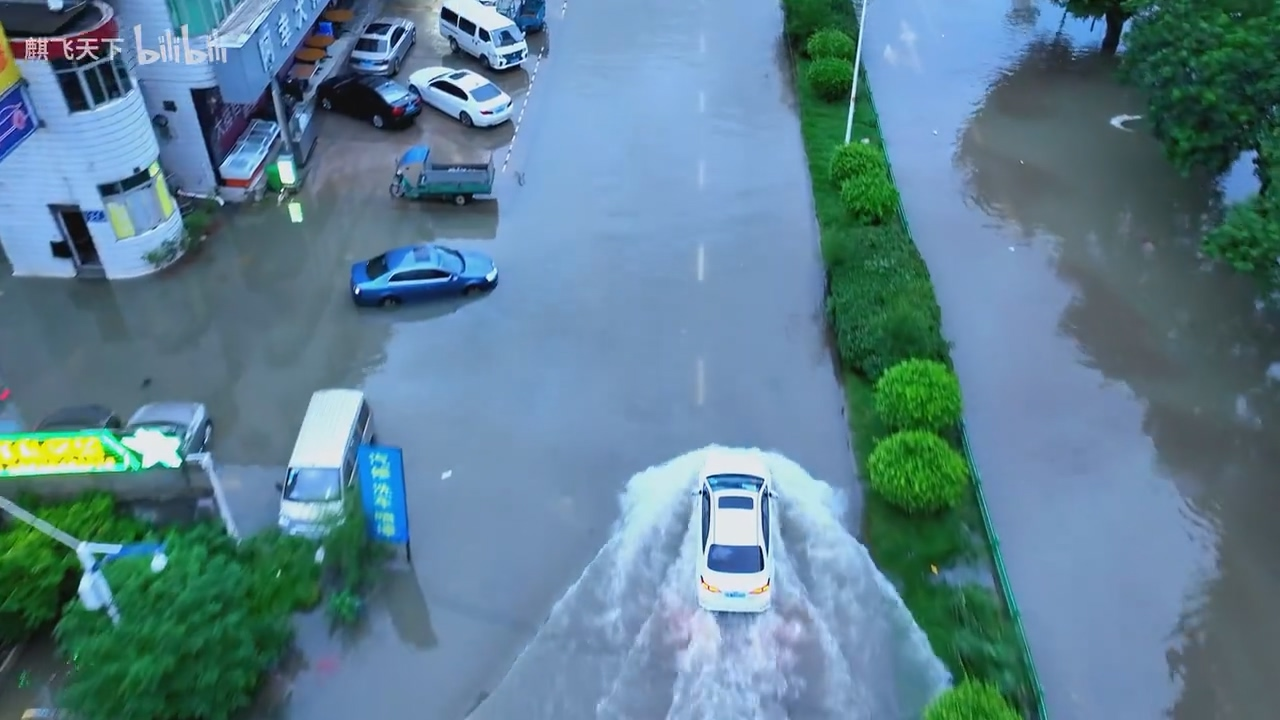puddle: (317, 153, 869, 720), (936, 152, 1280, 706)
